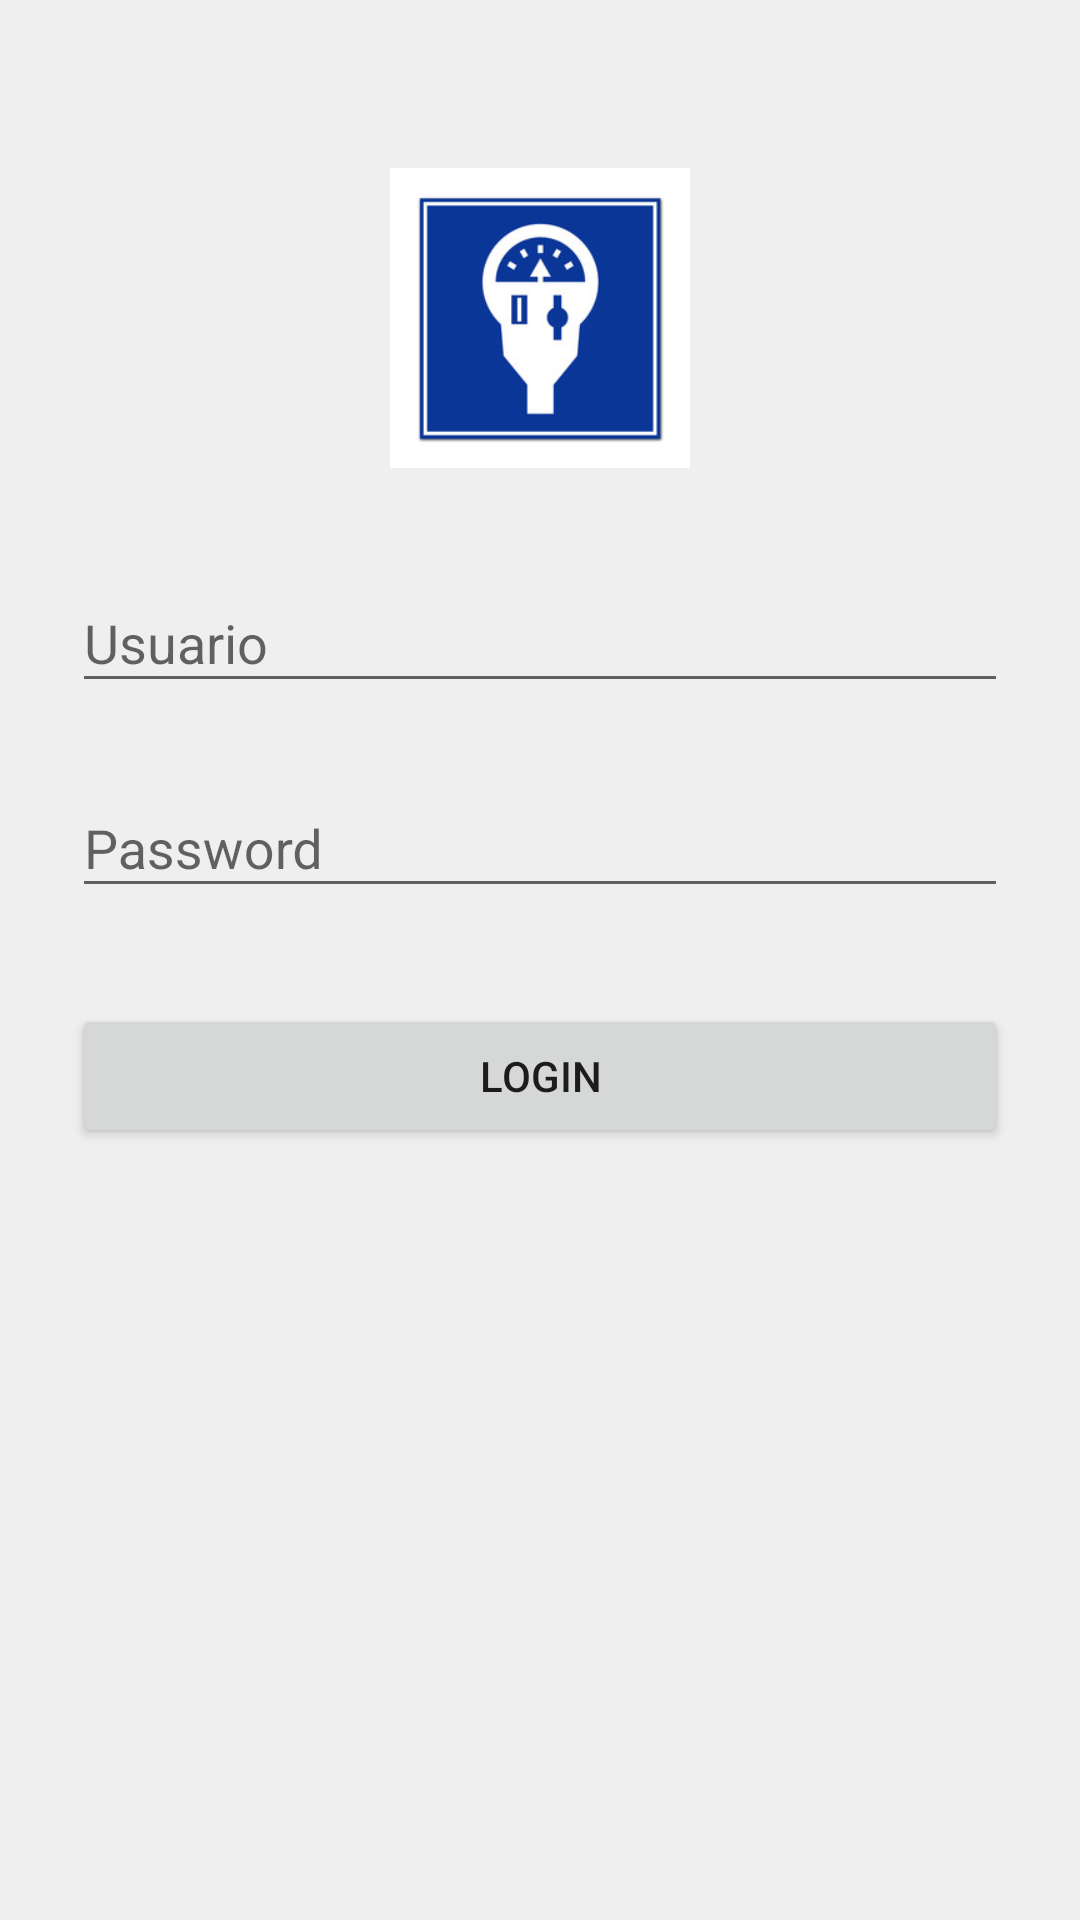

Screen size 1080 x 1920. Icon name, then its box in pixels as (x1, y1, x2, y2):
parkeo: (419, 198, 662, 441)
